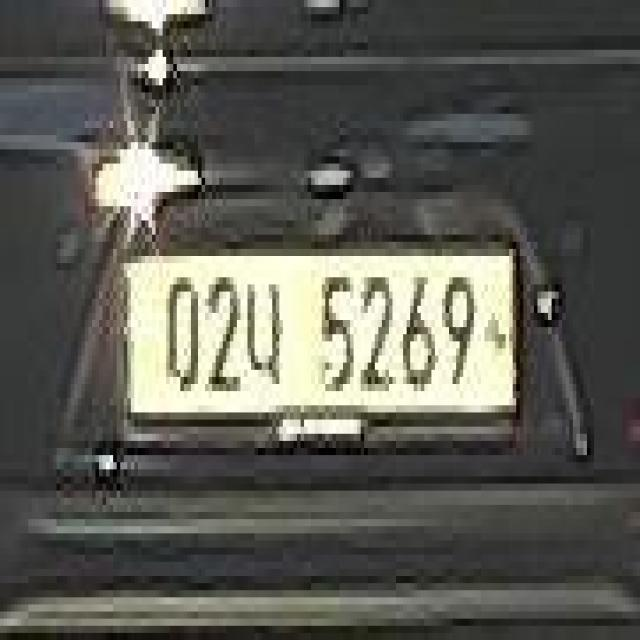illegal_plate: (122, 238, 525, 462)
